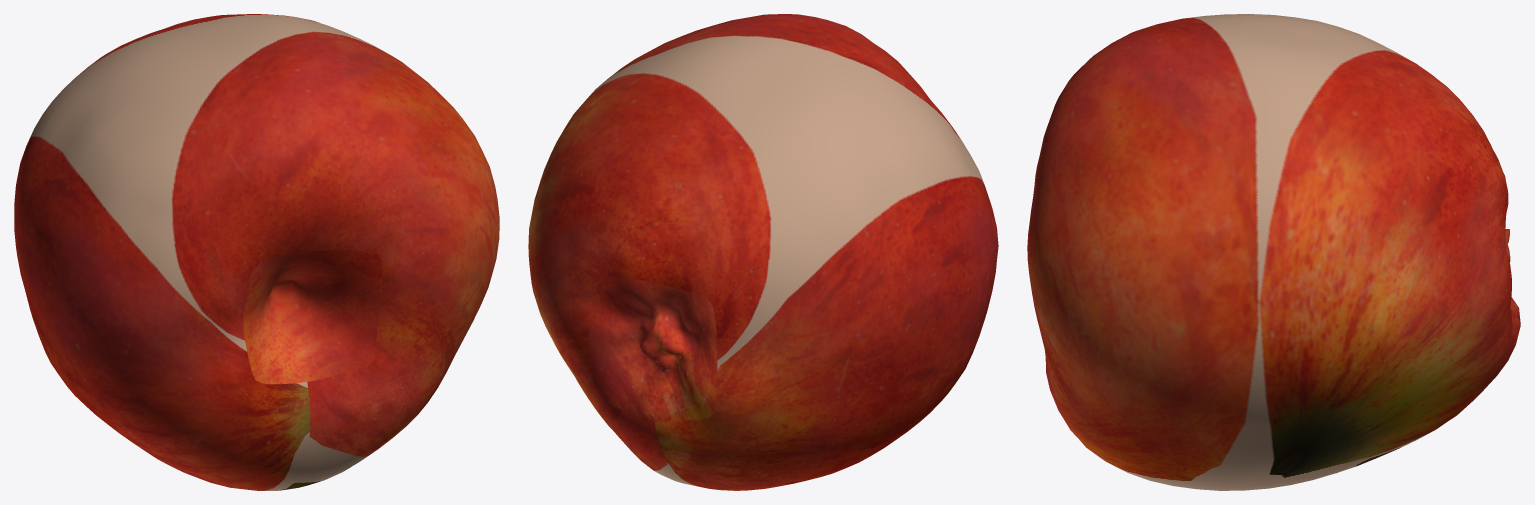
The picture shows the model from 3 angles, left to right: view 1: azimuth 30°, elevation 25°; view 2: azimuth 150°, elevation 25°; view 3: azimuth 270°, elevation 25°; orthographic projection. The views are drawn at different scales.
Bounding box in the file's own units: 1 × 0.9939 × 0.9916.
